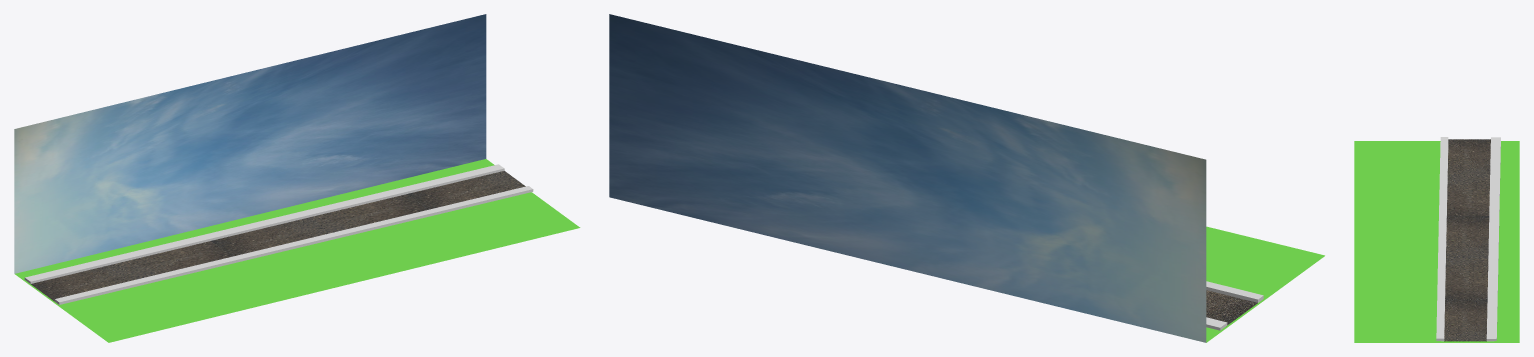
3 renders of one model, left to right at view 1: azimuth 30°, elevation 25°; view 2: azimuth 150°, elevation 25°; view 3: azimuth 270°, elevation 25°, orthographic. The views are drawn at different scales.
Visible parts, largest first — view 1: road, street; view 2: road, street; view 3: road, street.
Boxes of the visible parts, bbox=[...] form: road: bbox=[14, 14, 580, 342]; street: bbox=[24, 164, 533, 304]; road: bbox=[609, 14, 1324, 342]; street: bbox=[1206, 281, 1263, 330]; road: bbox=[1354, 141, 1519, 342]; street: bbox=[1436, 137, 1500, 341].
Size of the model in its own units: 116 by 34.07 by 40.21.
4 materials, 2 textured.
